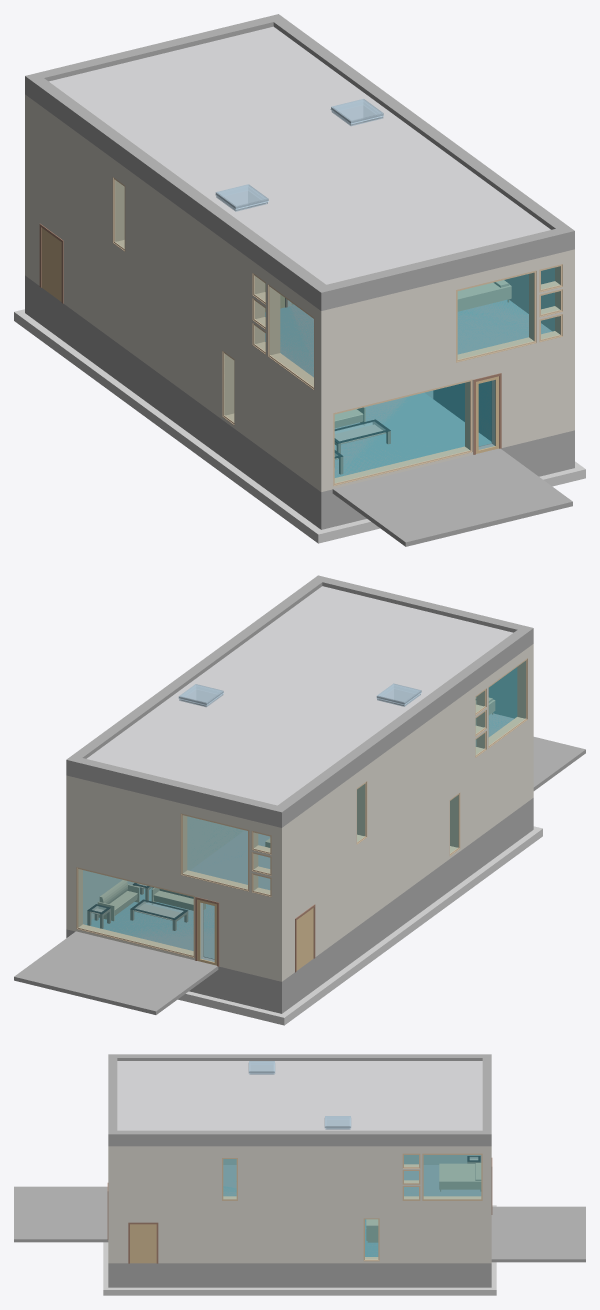
The model's file is duplex.glb.
3 renders of one model, top to bottom at view 1: azimuth 30°, elevation 25°; view 2: azimuth 150°, elevation 25°; view 3: azimuth 270°, elevation 25°, orthographic. The views are drawn at different scales.
Visible parts, largest first — view 1: 3ThA22djr8AQQ9eQMA5s7I, 2O2Fr$t4X7Zf8NOew3FNhv, 2O2Fr$t4X7Zf8NOew3FLPP, 2O2Fr$t4X7Zf8NOew3FLOH, 1CZILmCaHETO8tf3SgGEXu, 2O2Fr$t4X7Zf8NOew3FNr2, 2O2Fr$t4X7Zf8NOew3FKE5, 1hOSvn6df7F8_7GcBWlRBU, 0jf0rYHfX3RAB3bSIRjmr1, 0BTBFw6f90Nfh9rP1dlXr2, 2OBrcmyk58NupXoVOHUtxr, 0jf0rYHfX3RAB3bSIRjmoa (+22 smaller); view 2: 3ThA22djr8AQQ9eQMA5s7I, 2O2Fr$t4X7Zf8NOew3FNhv, 2O2Fr$t4X7Zf8NOew3FLPP, 2O2Fr$t4X7Zf8NOew3FLQD, 1CZILmCaHETO8tf3SgGEWh, 2O2Fr$t4X7Zf8NOew3FNtn, 2O2Fr$t4X7Zf8NOew3FKE5, 1hOSvn6df7F8_7GcBWlR72, 0jf0rYHfX3RAB3bSIRjmr1, 0jf0rYHfX3RAB3bSIRjmmy, 1hOSvn6df7F8_7GcBWlSXO, 0kF45Qs8L9PAM9kmb1lT5t (+22 smaller); view 3: 3ThA22djr8AQQ9eQMA5s7I, 2O2Fr$t4X7Zf8NOew3FNqI, 2O2Fr$t4X7Zf8NOew3FLR9, 2O2Fr$t4X7Zf8NOew3FK9N, 0jf0rYHfX3RAB3bSIRjmpw, 1CZILmCaHETO8tf3SgGEWh, 1CZILmCaHETO8tf3SgGEXu, 0kF45Qs8L9PAM9kmb1lT5d, 1l0GAJtRTFv8$zmKJOH4pU, 0jf0rYHfX3RAB3bSIRjmr1, 1hOSvn6df7F8_7GcBWlRGQ, 2OBrcmyk58NupXoVOHUtDX (+10 smaller).
Part boxes in pixels (x1,y1,x2,y2): 3ThA22djr8AQQ9eQMA5s7I: [49, 26, 550, 284]; 2O2Fr$t4X7Zf8NOew3FNhv: [32, 187, 314, 486]; 2O2Fr$t4X7Zf8NOew3FLPP: [25, 94, 321, 398]; 2O2Fr$t4X7Zf8NOew3FLOH: [321, 249, 574, 398]; 1CZILmCaHETO8tf3SgGEXu: [332, 448, 572, 546]; 2O2Fr$t4X7Zf8NOew3FNr2: [314, 340, 562, 491]; 2O2Fr$t4X7Zf8NOew3FKE5: [32, 281, 314, 524]; 1hOSvn6df7F8_7GcBWlRBU: [333, 379, 472, 486]; 0jf0rYHfX3RAB3bSIRjmr1: [32, 78, 325, 305]; 0BTBFw6f90Nfh9rP1dlXr2: [335, 381, 491, 477]; 2OBrcmyk58NupXoVOHUtxr: [334, 390, 491, 477]; 0jf0rYHfX3RAB3bSIRjmoa: [314, 229, 562, 310]; 3ThA22djr8AQQ9eQMA5s7I: [86, 586, 513, 805]; 2O2Fr$t4X7Zf8NOew3FNhv: [287, 722, 527, 977]; 2O2Fr$t4X7Zf8NOew3FLPP: [282, 644, 533, 901]; 2O2Fr$t4X7Zf8NOew3FLQD: [66, 775, 281, 902]; 1CZILmCaHETO8tf3SgGEWh: [14, 931, 218, 1014]; 2O2Fr$t4X7Zf8NOew3FNtn: [66, 850, 287, 981]; 2O2Fr$t4X7Zf8NOew3FKE5: [287, 802, 527, 1009]; 1hOSvn6df7F8_7GcBWlR72: [76, 867, 194, 957]; 0jf0rYHfX3RAB3bSIRjmr1: [278, 630, 527, 823]; 0jf0rYHfX3RAB3bSIRjmmy: [66, 755, 287, 827]; 1hOSvn6df7F8_7GcBWlSXO: [180, 813, 249, 891]; 0kF45Qs8L9PAM9kmb1lT5t: [262, 836, 530, 1025]; 3ThA22djr8AQQ9eQMA5s7I: [117, 1061, 482, 1130]; 2O2Fr$t4X7Zf8NOew3FNqI: [108, 1202, 482, 1263]; 2O2Fr$t4X7Zf8NOew3FLR9: [108, 1146, 491, 1202]; 2O2Fr$t4X7Zf8NOew3FK9N: [108, 1263, 482, 1287]; 0jf0rYHfX3RAB3bSIRjmpw: [108, 1130, 482, 1146]; 1CZILmCaHETO8tf3SgGEWh: [491, 1206, 585, 1262]; 1CZILmCaHETO8tf3SgGEXu: [14, 1186, 108, 1242]; 0kF45Qs8L9PAM9kmb1lT5d: [103, 1281, 496, 1295]; 1l0GAJtRTFv8$zmKJOH4pU: [422, 1153, 482, 1200]; 0jf0rYHfX3RAB3bSIRjmr1: [117, 1054, 482, 1060]; 1hOSvn6df7F8_7GcBWlRGQ: [128, 1222, 158, 1263]; 2OBrcmyk58NupXoVOHUtDX: [404, 1165, 481, 1196].
Size of the model in its own units: 9.28 by 8.18 by 26.57.
